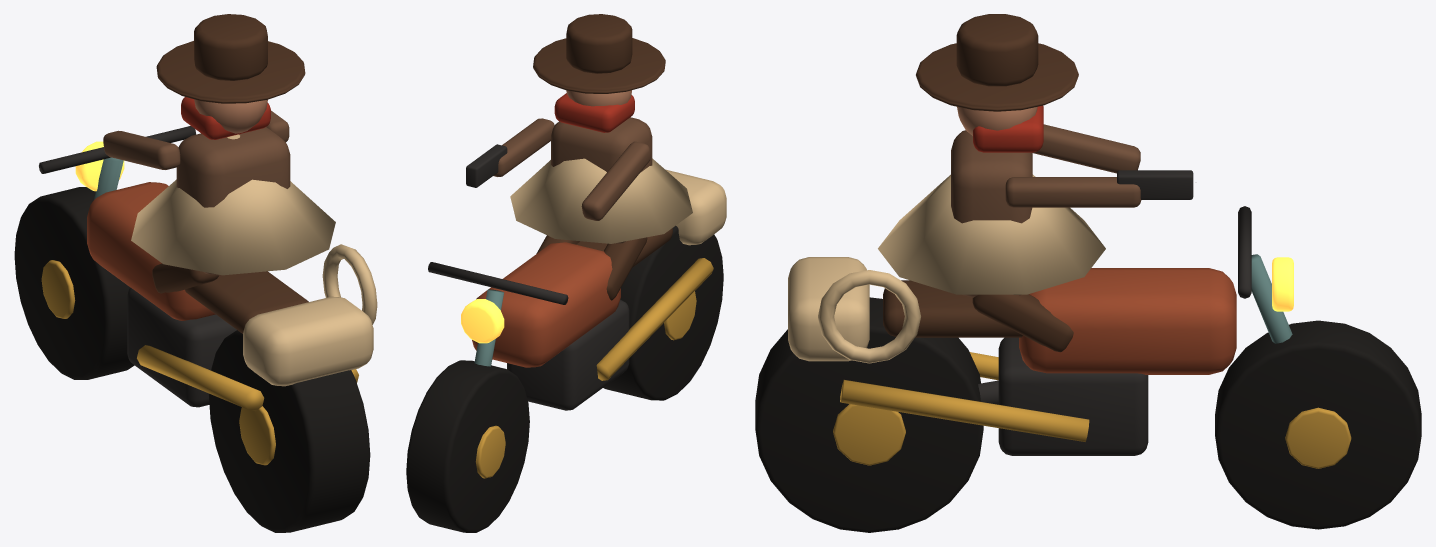
Rendered from bike.glb.
3 renders of one model, left to right at view 1: azimuth 30°, elevation 25°; view 2: azimuth 150°, elevation 25°; view 3: azimuth 270°, elevation 25°, orthographic. The views are drawn at different scales.
Visible parts, largest first — view 1: wb_t, wf_t, poncho, bag, tank, torso, engine, hatbrim, hattop, seat, exhaust-1, armL (+9 smaller); view 2: wf_t, tank, poncho, wb_t, engine, hatbrim, hattop, torso, exhaust-1, bag, armL, scarf (+10 smaller); view 3: wf_t, wb_t, tank, poncho, engine, bag, hatbrim, exhaust1, torso, hattop, seat, rope (+11 smaller).
Part boxes in pixels (left/top/right/bottom): wb_t: left=208, top=330, right=370, bottom=532; wf_t: left=14, top=187, right=134, bottom=379; poncho: left=131, top=134, right=335, bottom=275; bag: left=243, top=296, right=373, bottom=386; tank: left=87, top=182, right=215, bottom=320; torso: left=176, top=127, right=290, bottom=275; engine: left=127, top=287, right=236, bottom=407; hatbrim: left=156, top=41, right=305, bottom=103; hattop: left=194, top=14, right=267, bottom=80; seat: left=185, top=271, right=308, bottom=333; exhaust-1: left=137, top=345, right=264, bottom=411; armL: left=103, top=130, right=180, bottom=169; wf_t: left=406, top=360, right=529, bottom=532; tank: left=472, top=242, right=620, bottom=367; poncho: left=510, top=158, right=692, bottom=243; wb_t: left=603, top=225, right=723, bottom=400; engine: left=507, top=299, right=629, bottom=410; hatbrim: left=533, top=38, right=665, bottom=93; hattop: left=566, top=14, right=632, bottom=73; torso: left=551, top=117, right=652, bottom=243; exhaust-1: left=596, top=258, right=713, bottom=380; bag: left=665, top=169, right=726, bottom=245; armL: left=581, top=141, right=650, bottom=220; scarf: left=554, top=93, right=634, bottom=132; wf_t: left=1215, top=320, right=1421, bottom=529; wb_t: left=755, top=297, right=983, bottom=532; tank: left=1019, top=268, right=1236, bottom=374; poncho: left=878, top=174, right=1105, bottom=294; engine: left=998, top=337, right=1148, bottom=455; bag: left=788, top=257, right=869, bottom=361; hatbrim: left=916, top=43, right=1078, bottom=111; exhaust1: left=840, top=379, right=1089, bottom=441; torso: left=951, top=130, right=1032, bottom=297; hattop: left=956, top=14, right=1038, bottom=86; seat: left=883, top=280, right=1022, bottom=337; rope: left=818, top=270, right=920, bottom=363.
Bounding box in the file's own units: 0.7989 × 1.99 × 2.45.
